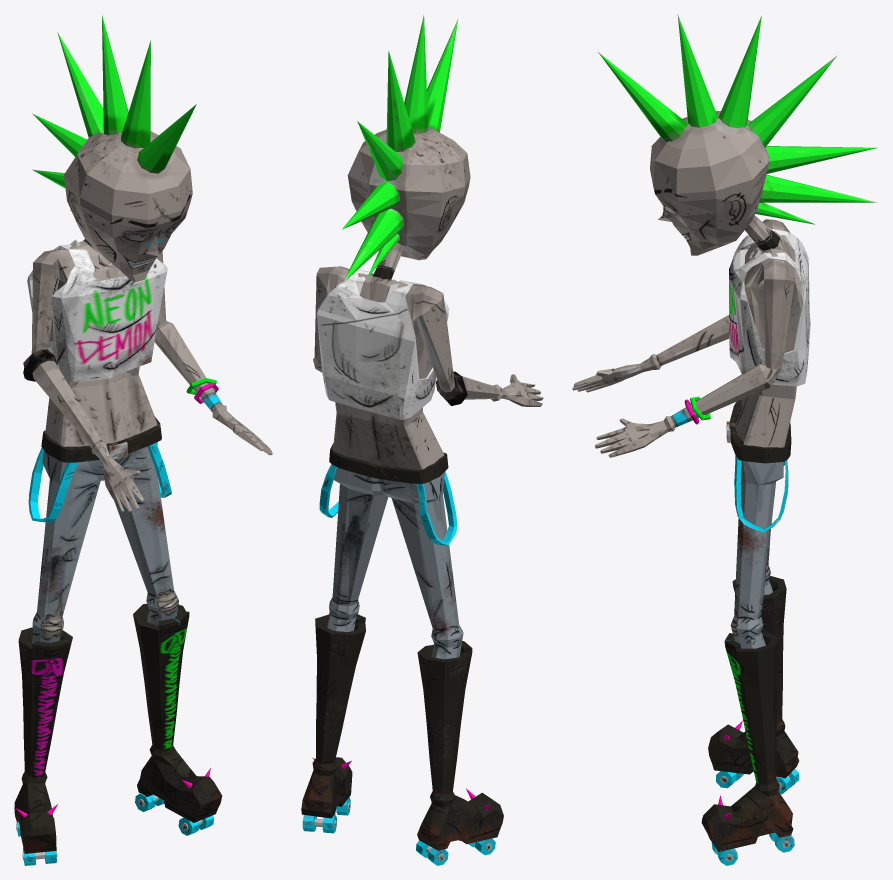
File: punkAnimation_000030.obj
3 views of the same model, side by side, from view 1: azimuth 30°, elevation 25°; view 2: azimuth 150°, elevation 25°; view 3: azimuth 270°, elevation 25° (orthographic). The views are drawn at different scales.
Visible parts, largest first — view 1: Cube.004_Cube.003; view 2: Cube.004_Cube.003; view 3: Cube.004_Cube.003.
Part boxes in pixels (x1,y1,x2,y2): Cube.004_Cube.003: (14,15,272,865); Cube.004_Cube.003: (301,15,543,865); Cube.004_Cube.003: (572,14,877,865).
Size of the model in its own units: 1.85 by 7.55 by 2.58.
